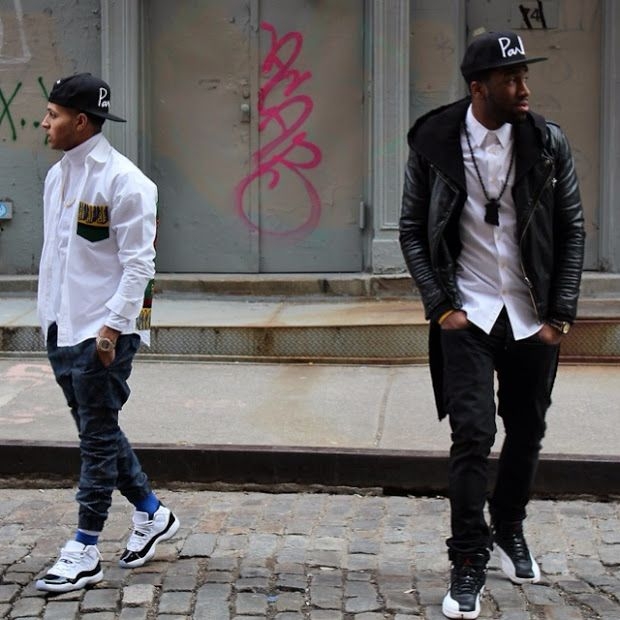Person: (397, 40, 585, 594), (15, 76, 194, 579)
